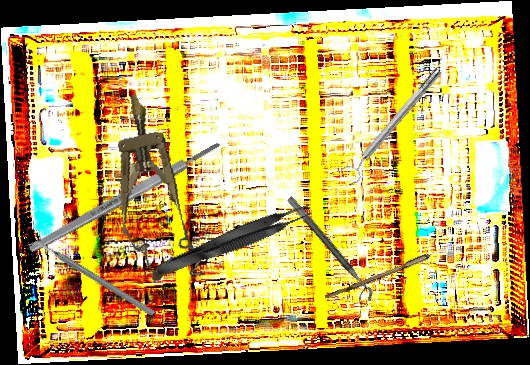Chopper: (26, 205, 157, 352)
Fixation Ring: (338, 63, 449, 186), (278, 195, 377, 308)
Scalpel Handle: (26, 138, 223, 256)
Speculum: (97, 87, 207, 290)
Surgical Spoon: (324, 236, 467, 303)
Tissue Forceps: (152, 197, 315, 283)
